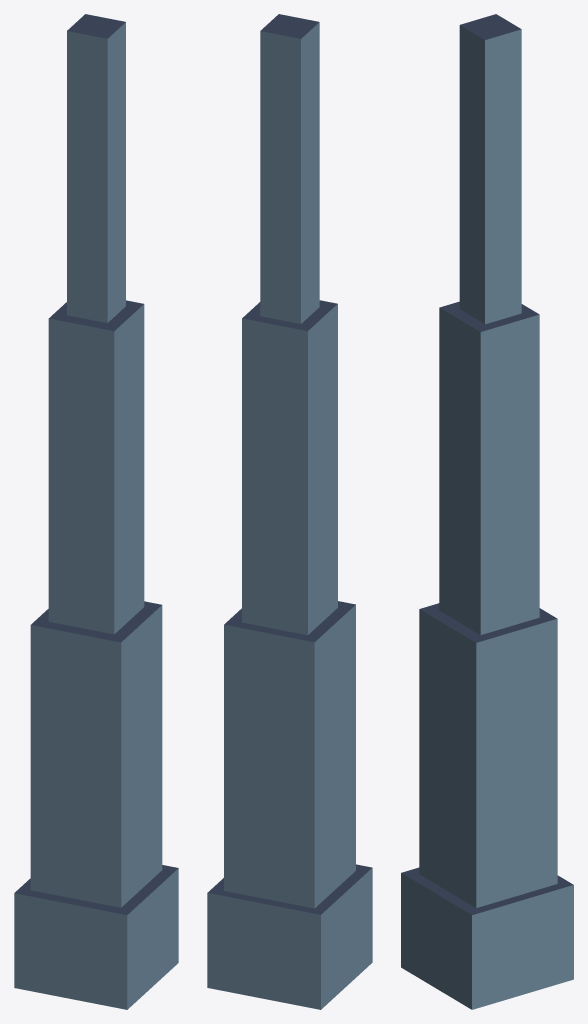
The model's file is uncle-elephant-and-castle.glb.
The picture shows the model from 3 angles, left to right: view 1: azimuth 30°, elevation 25°; view 2: azimuth 210°, elevation 25°; view 3: azimuth 270°, elevation 25°; orthographic projection.
Parts seen in each view (by area): view 1: uncle-elephant-and-castle-1, uncle-elephant-and-castle-2, uncle-elephant-and-castle-3, uncle-elephant-and-castle-0; view 2: uncle-elephant-and-castle-1, uncle-elephant-and-castle-2, uncle-elephant-and-castle-3, uncle-elephant-and-castle-0; view 3: uncle-elephant-and-castle-1, uncle-elephant-and-castle-2, uncle-elephant-and-castle-3, uncle-elephant-and-castle-0.
Boxes of the visible parts, <box> form: uncle-elephant-and-castle-1: <box>30,601,162,907</box>; uncle-elephant-and-castle-2: <box>48,300,144,634</box>; uncle-elephant-and-castle-3: <box>67,14,125,322</box>; uncle-elephant-and-castle-0: <box>14,865,178,1009</box>; uncle-elephant-and-castle-1: <box>224,601,355,908</box>; uncle-elephant-and-castle-2: <box>242,300,337,635</box>; uncle-elephant-and-castle-3: <box>260,14,319,323</box>; uncle-elephant-and-castle-0: <box>207,864,372,1009</box>; uncle-elephant-and-castle-1: <box>419,603,557,907</box>; uncle-elephant-and-castle-2: <box>439,301,539,634</box>; uncle-elephant-and-castle-3: <box>459,14,521,324</box>; uncle-elephant-and-castle-0: <box>401,867,573,1009</box>.
Bounding box in the file's own units: 0.3266 × 1.98 × 0.3273.
